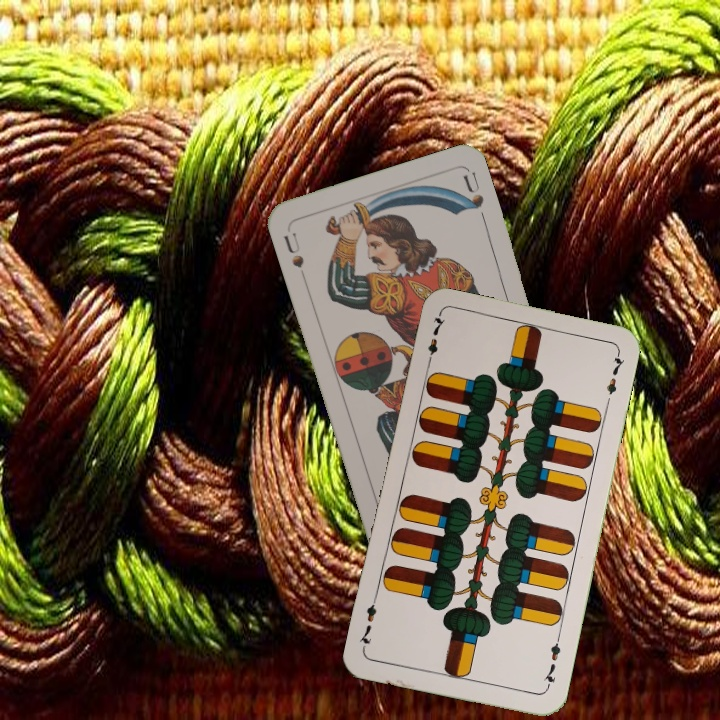E7: (423, 311, 448, 370), (539, 633, 563, 692)
SU: (279, 228, 307, 270)
